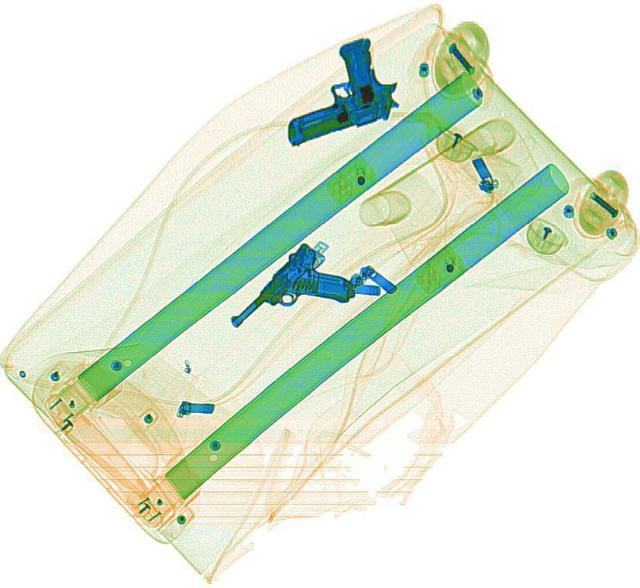Gun: (255, 31, 410, 148), (219, 239, 363, 361)
